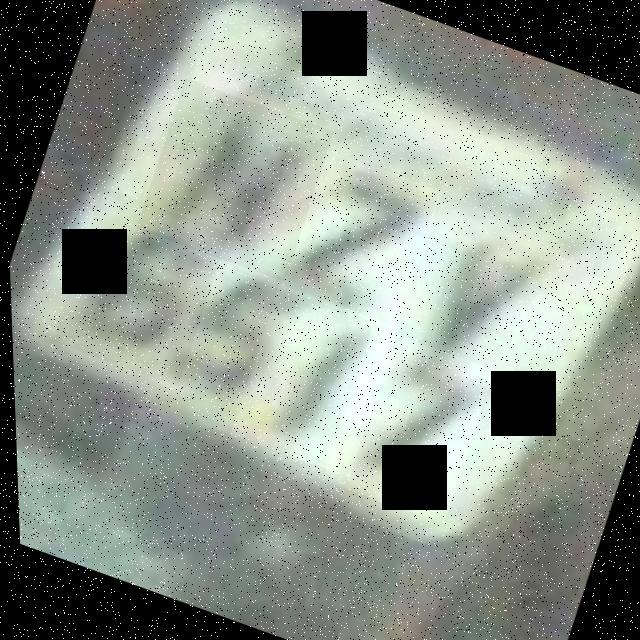1: (223, 284, 400, 478)
5: (139, 240, 319, 424)
6: (45, 188, 231, 386)
7: (314, 326, 496, 524)
N: (130, 78, 337, 282)
Z: (242, 138, 445, 330)
